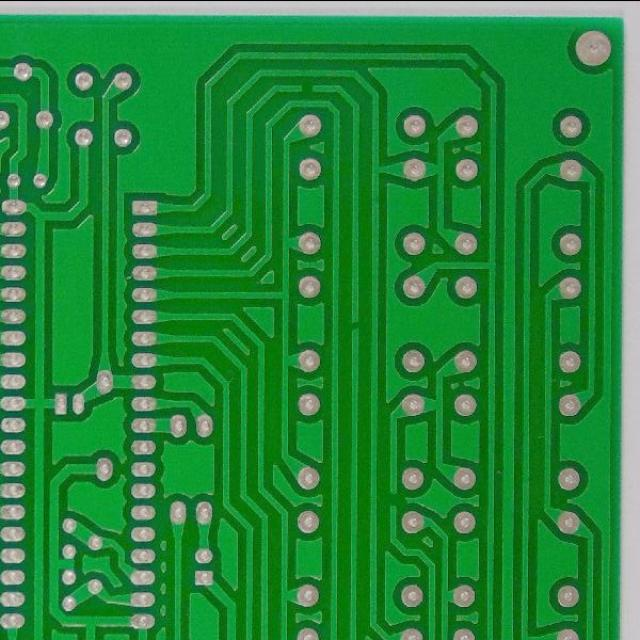open_circuit: (344, 316, 365, 338), (384, 488, 400, 510), (297, 80, 321, 94), (472, 57, 488, 78)
